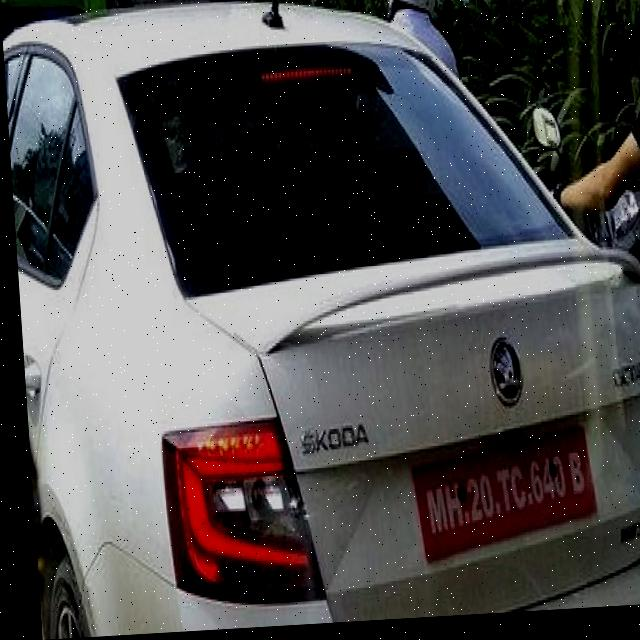plate: (403, 435, 591, 585)
